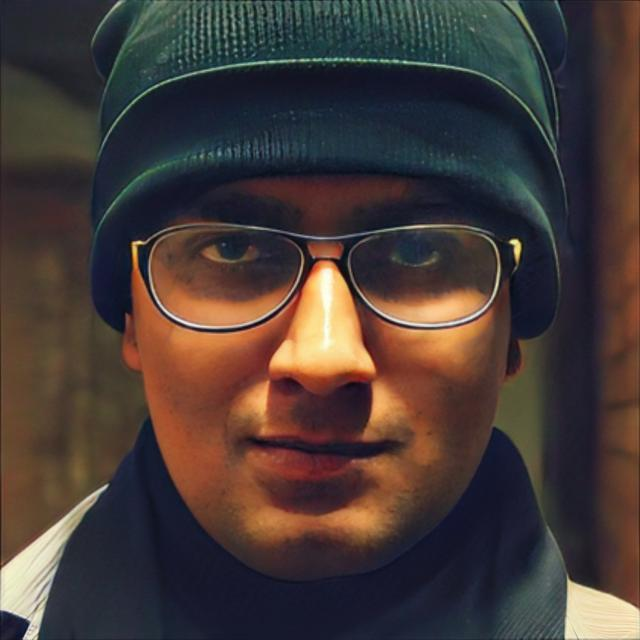content: (130, 174, 514, 582)
